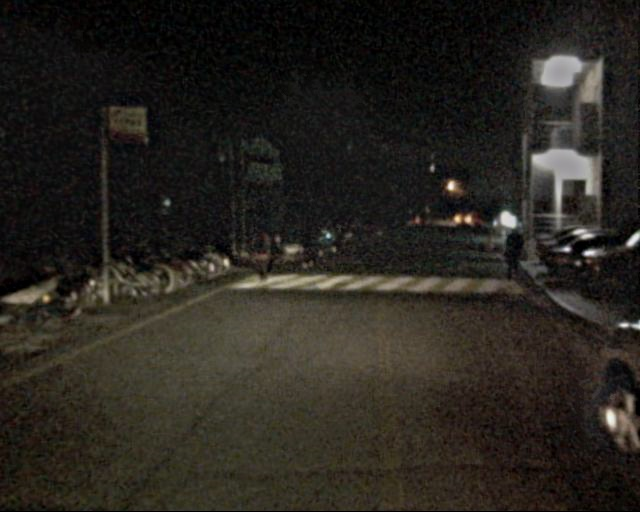person: (241, 222, 269, 290), (498, 226, 525, 291), (293, 222, 311, 266)
